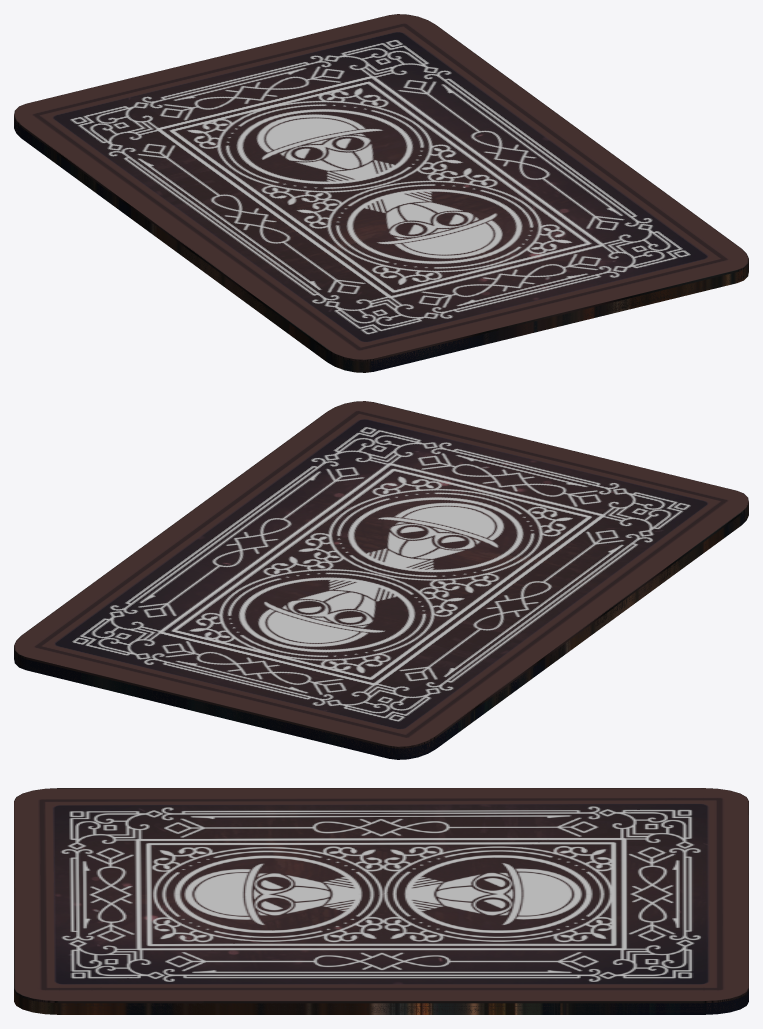
File: threeof_cups_tarot.glb
3 renders of one model, top to bottom at view 1: azimuth 30°, elevation 25°; view 2: azimuth 150°, elevation 25°; view 3: azimuth 270°, elevation 25°, orthographic. The views are drawn at different scales.
Visible parts, largest first — view 1: Plane.002, Plane.001; view 2: Plane.002, Plane.001; view 3: Plane.002, Plane.001.
Part boxes in pixels (x1,y1,x2,y2): Plane.002: (14,14,748,370); Plane.001: (14,118,748,372); Plane.002: (14,401,748,756); Plane.001: (14,505,748,759); Plane.002: (14,788,748,1012); Plane.001: (14,990,748,1014).
Bounding box in the file's own units: 2.28 × 0.0684 × 3.32.
2 materials, 2 textured.
